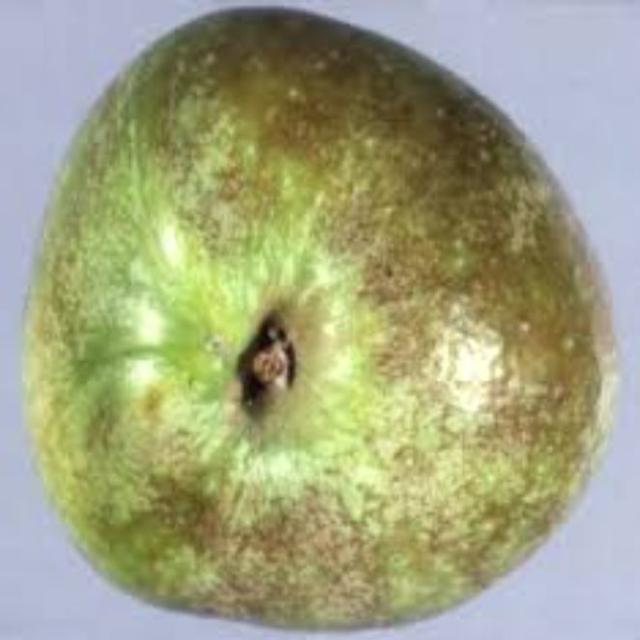Rotten Apple: (26, 9, 597, 624)
